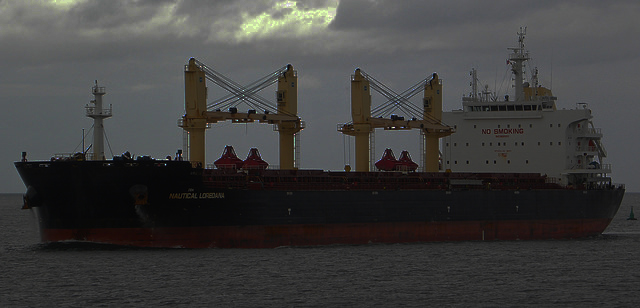bulk carrier: (12, 25, 625, 246)
